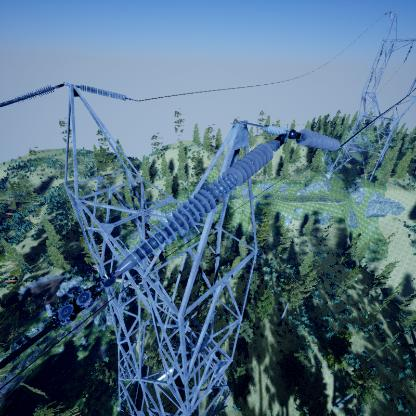insulator: (118, 142, 274, 272), (0, 85, 54, 113), (74, 81, 130, 100), (298, 133, 342, 150)
